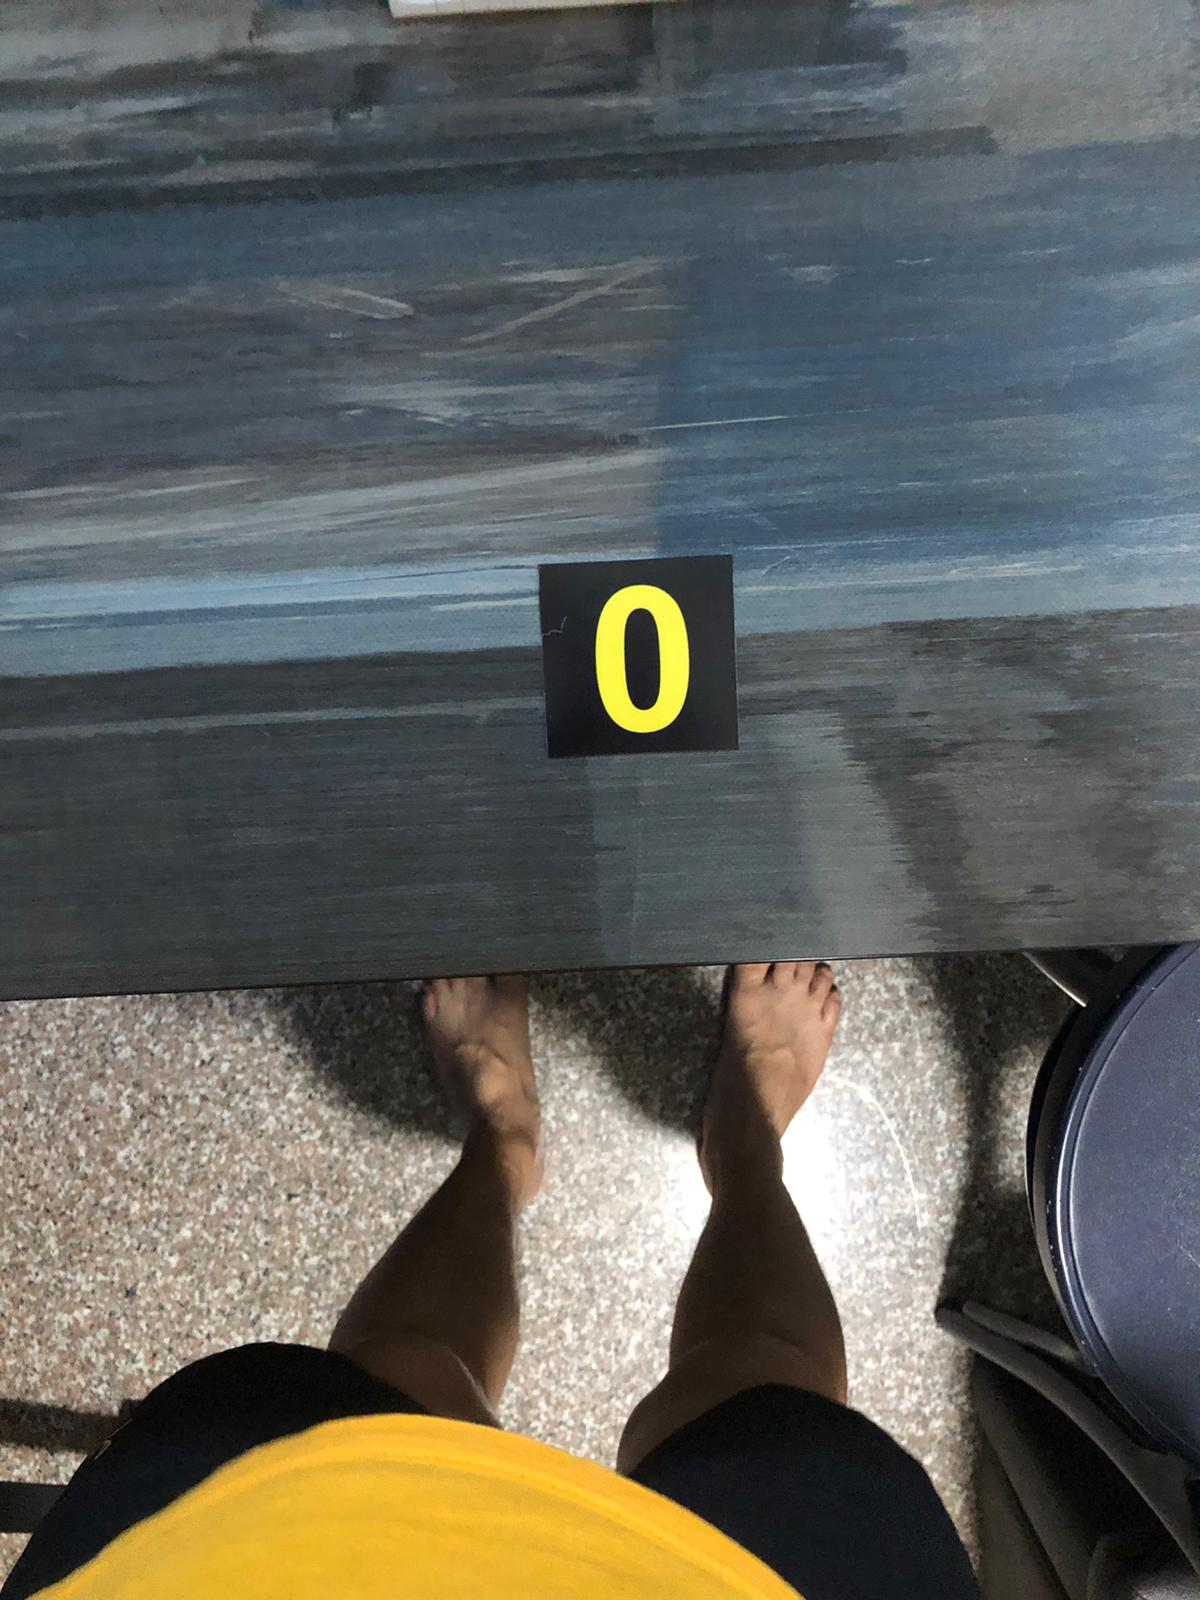Number 0: (532, 567, 742, 760)
